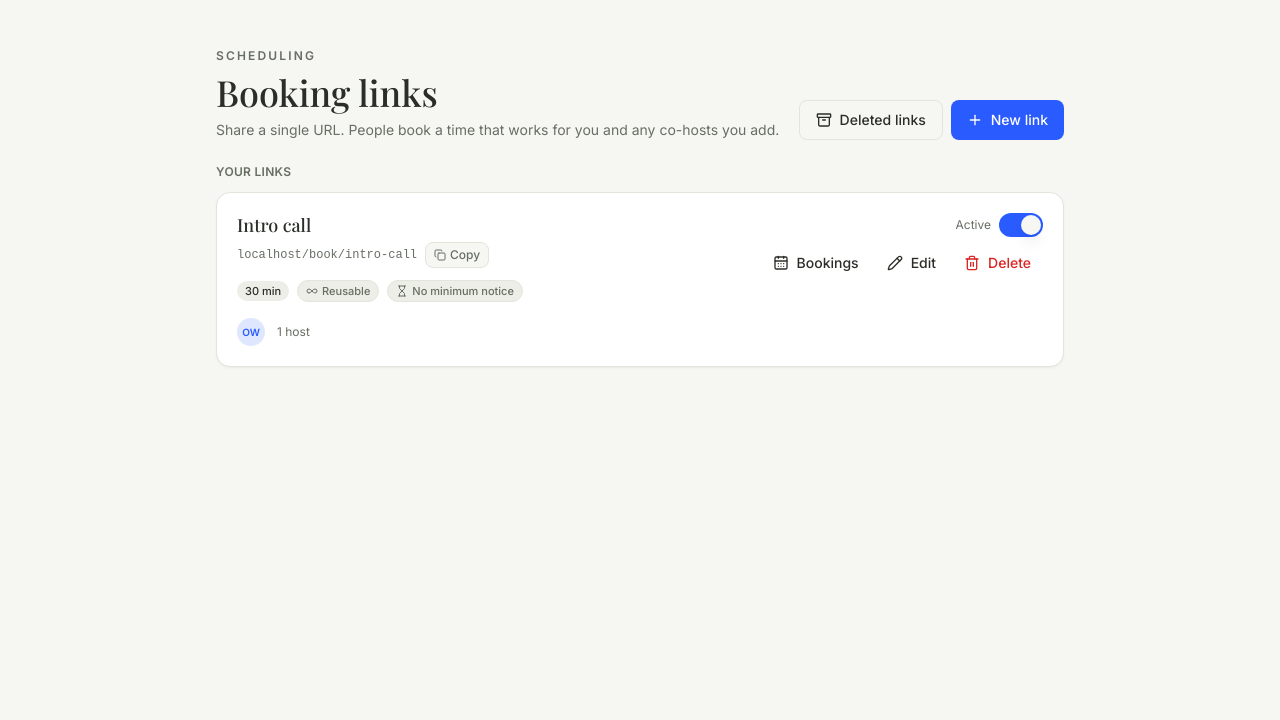
PAC-40 Links page › confirming deletes the link, it leaves the list, and the archive is read again
The width and height of the screenshot is (1280, 720).
Click the button with aria-label "Delete Intro call". click: [998, 263]
box: x1=952 y1=245 x2=1043 y2=281
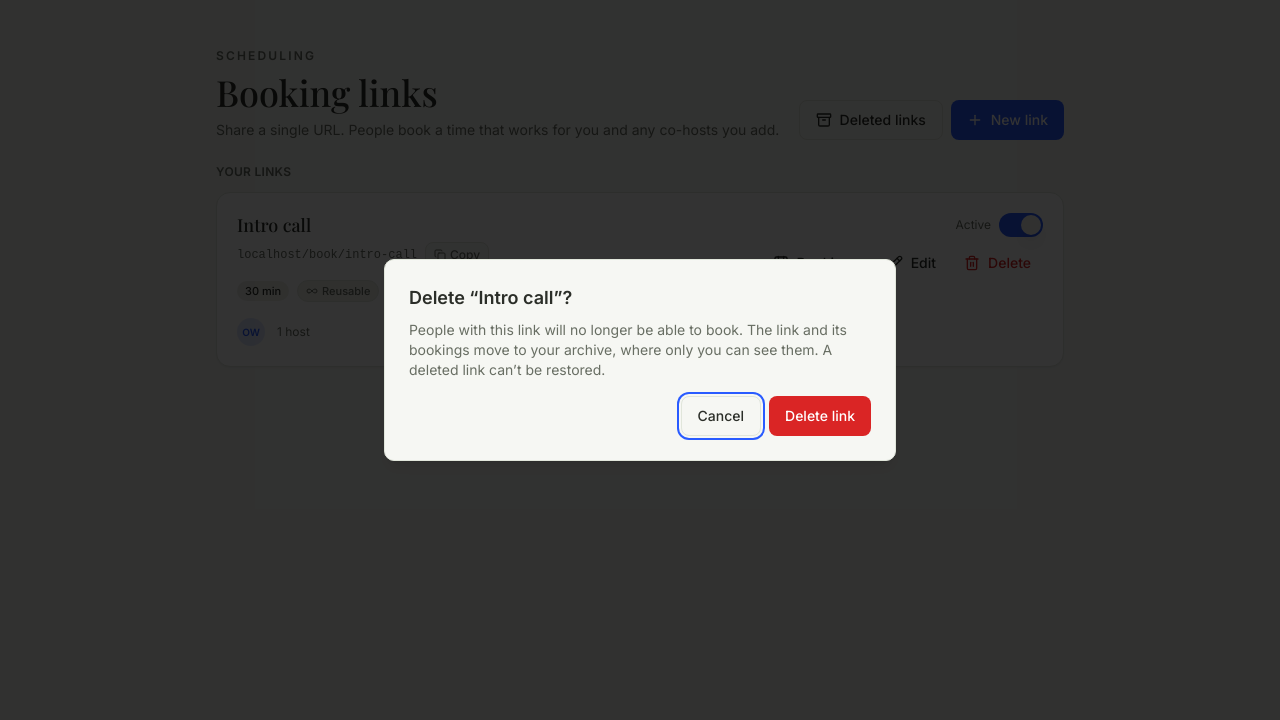
Click the button with test id "link-delete-confirm". click: [820, 416]
box: x1=769 y1=396 x2=871 y2=436
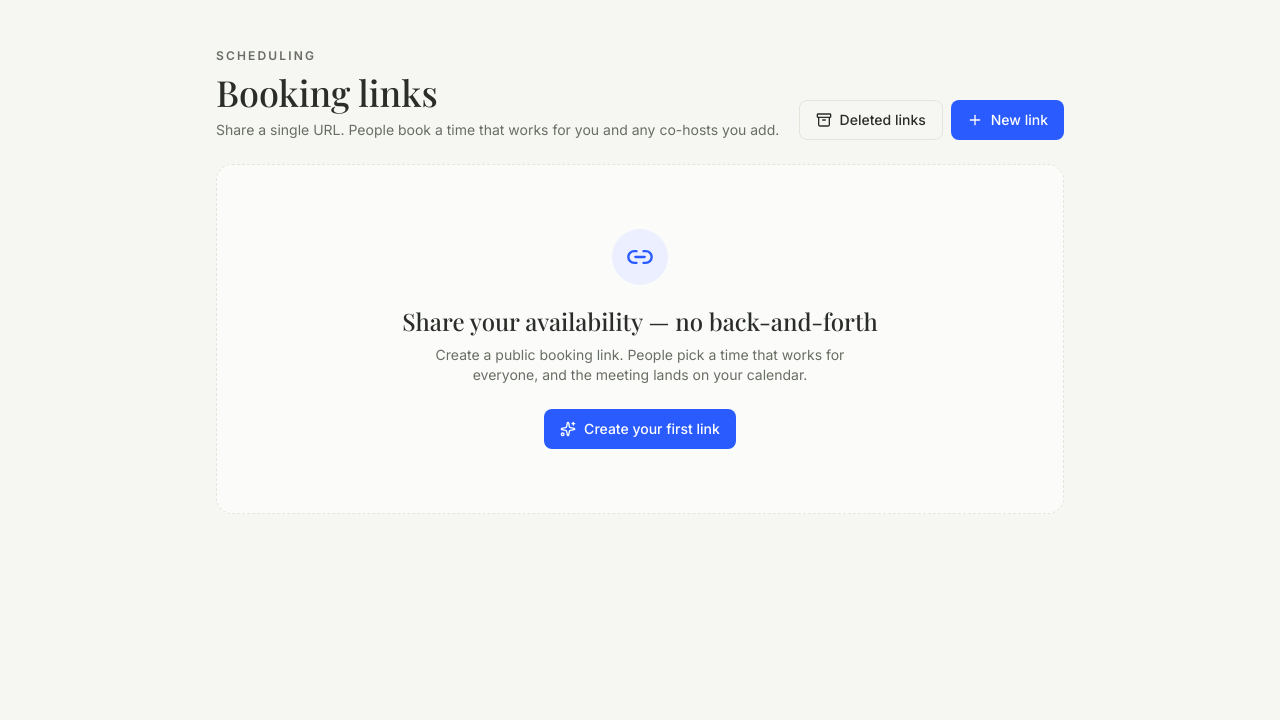
Expected: the element with test id "link-row-intro-call" is gone
